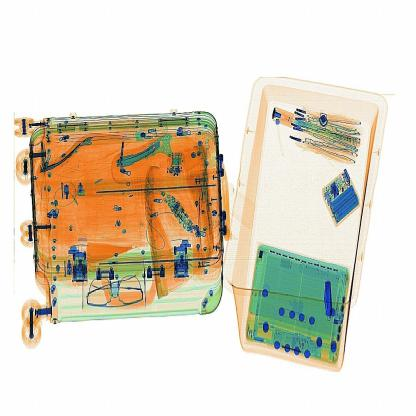knife: (320, 270, 342, 330)
